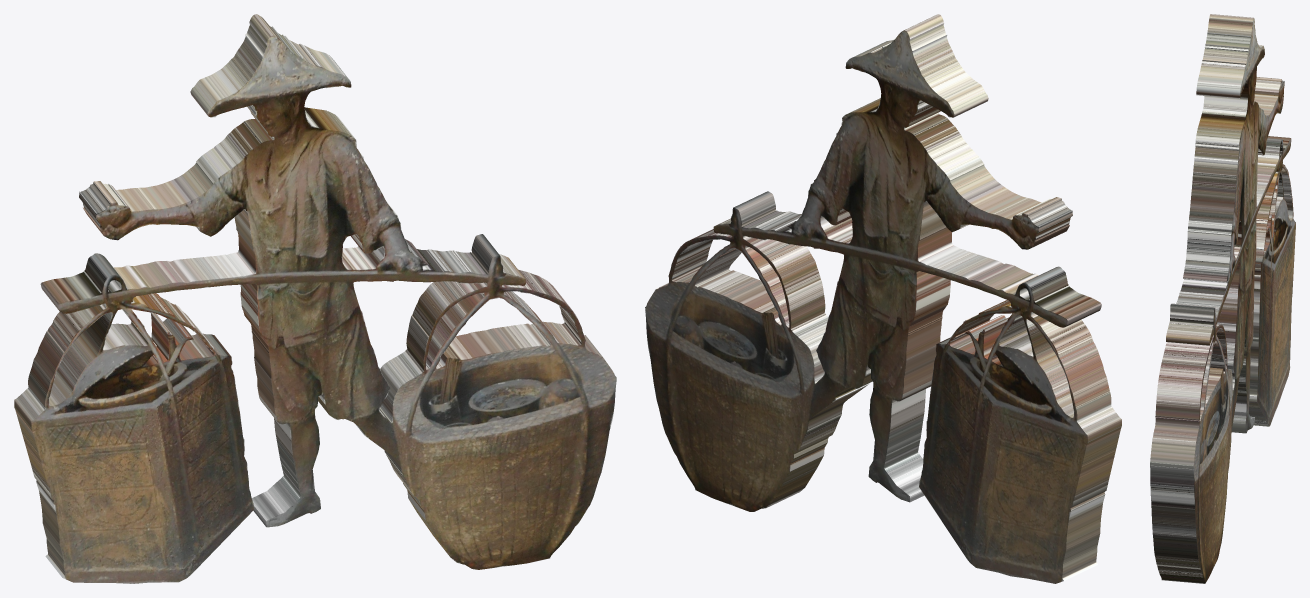
Rendered from chinese hawker.dae.
3 renders of one model, left to right at view 1: azimuth 30°, elevation 25°; view 2: azimuth 150°, elevation 25°; view 3: azimuth 270°, elevation 25°, orthographic. The views are drawn at different scales.
Parts seen in each view (by area): view 1: Component_91 (×9); view 2: Component_91 (×9); view 3: Component_91 (×6).
Boxes of the visible parts, x1,y1,x2,y2 form: Component_91 (×9): (14, 14, 616, 583); Component_91 (×9): (645, 14, 1121, 583); Component_91 (×6): (1150, 14, 1295, 583).
Bounding box in the file's own units: 64.58 × 18.47 × 65.24.
